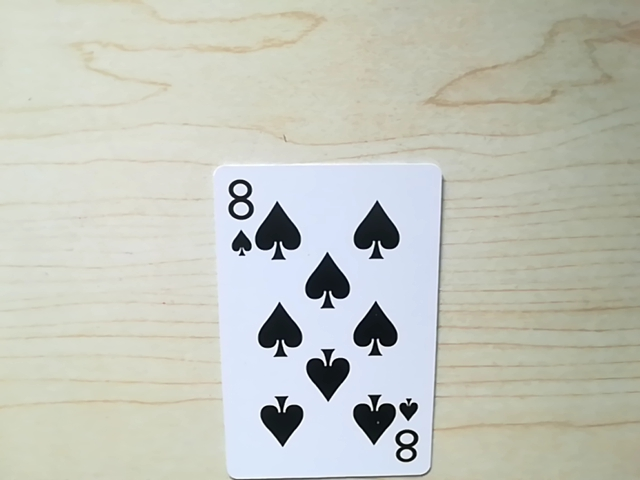ht 8: (219, 170, 261, 256), (382, 401, 426, 469)
